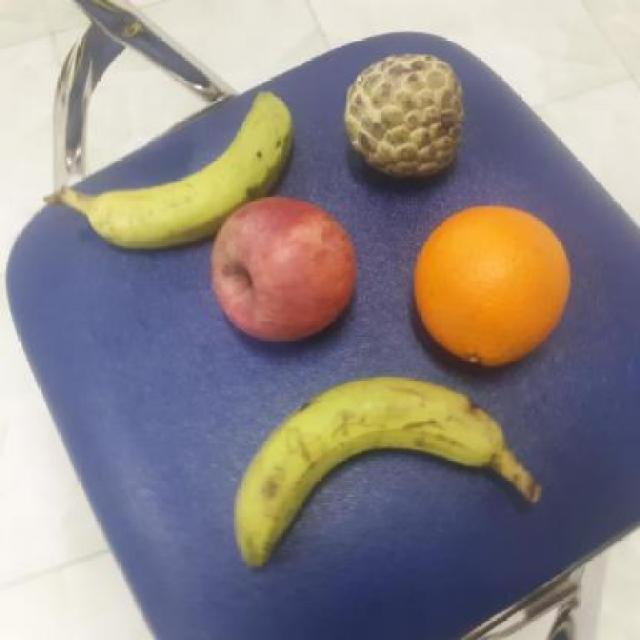apple: (205, 190, 361, 348)
banana: (232, 368, 506, 566), (92, 79, 296, 250)
oren: (408, 202, 578, 366)
sugar apple: (341, 49, 468, 178)
